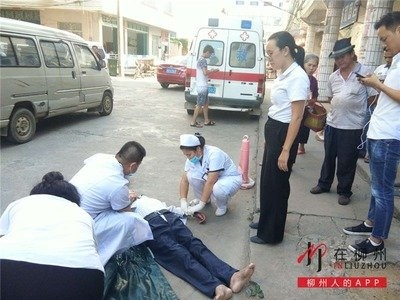falling: (124, 186, 264, 297)
